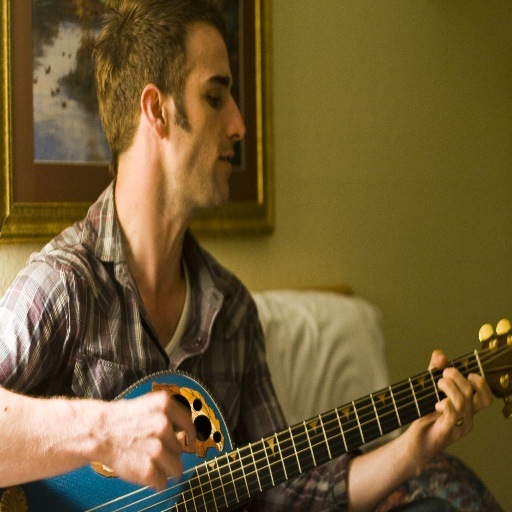hand: (32, 388, 190, 491), (406, 350, 493, 466)
